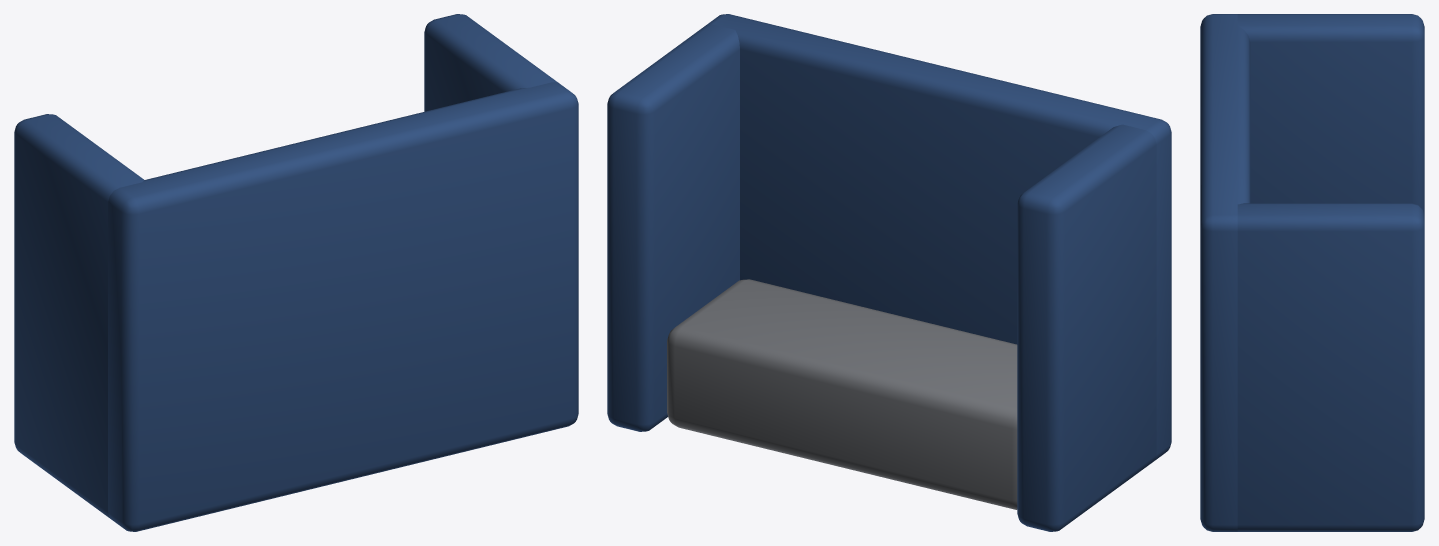
File: office.pod.sofa.glb
3 views of the same model, side by side, from view 1: azimuth 30°, elevation 25°; view 2: azimuth 150°, elevation 25°; view 3: azimuth 270°, elevation 25° (orthographic). The views are drawn at different scales.
Visible parts, largest first — view 1: main__fabric_blue; view 2: main__fabric_blue, main__fabric_grey; view 3: main__fabric_blue.
Part boxes in pixels (x1,y1,x2,y2): main__fabric_blue: [14, 14, 578, 531]; main__fabric_blue: [607, 14, 1171, 531]; main__fabric_grey: [667, 279, 1017, 509]; main__fabric_blue: [1200, 14, 1424, 531].
Bounding box in the file's own units: 2 × 1.4 × 0.9.
